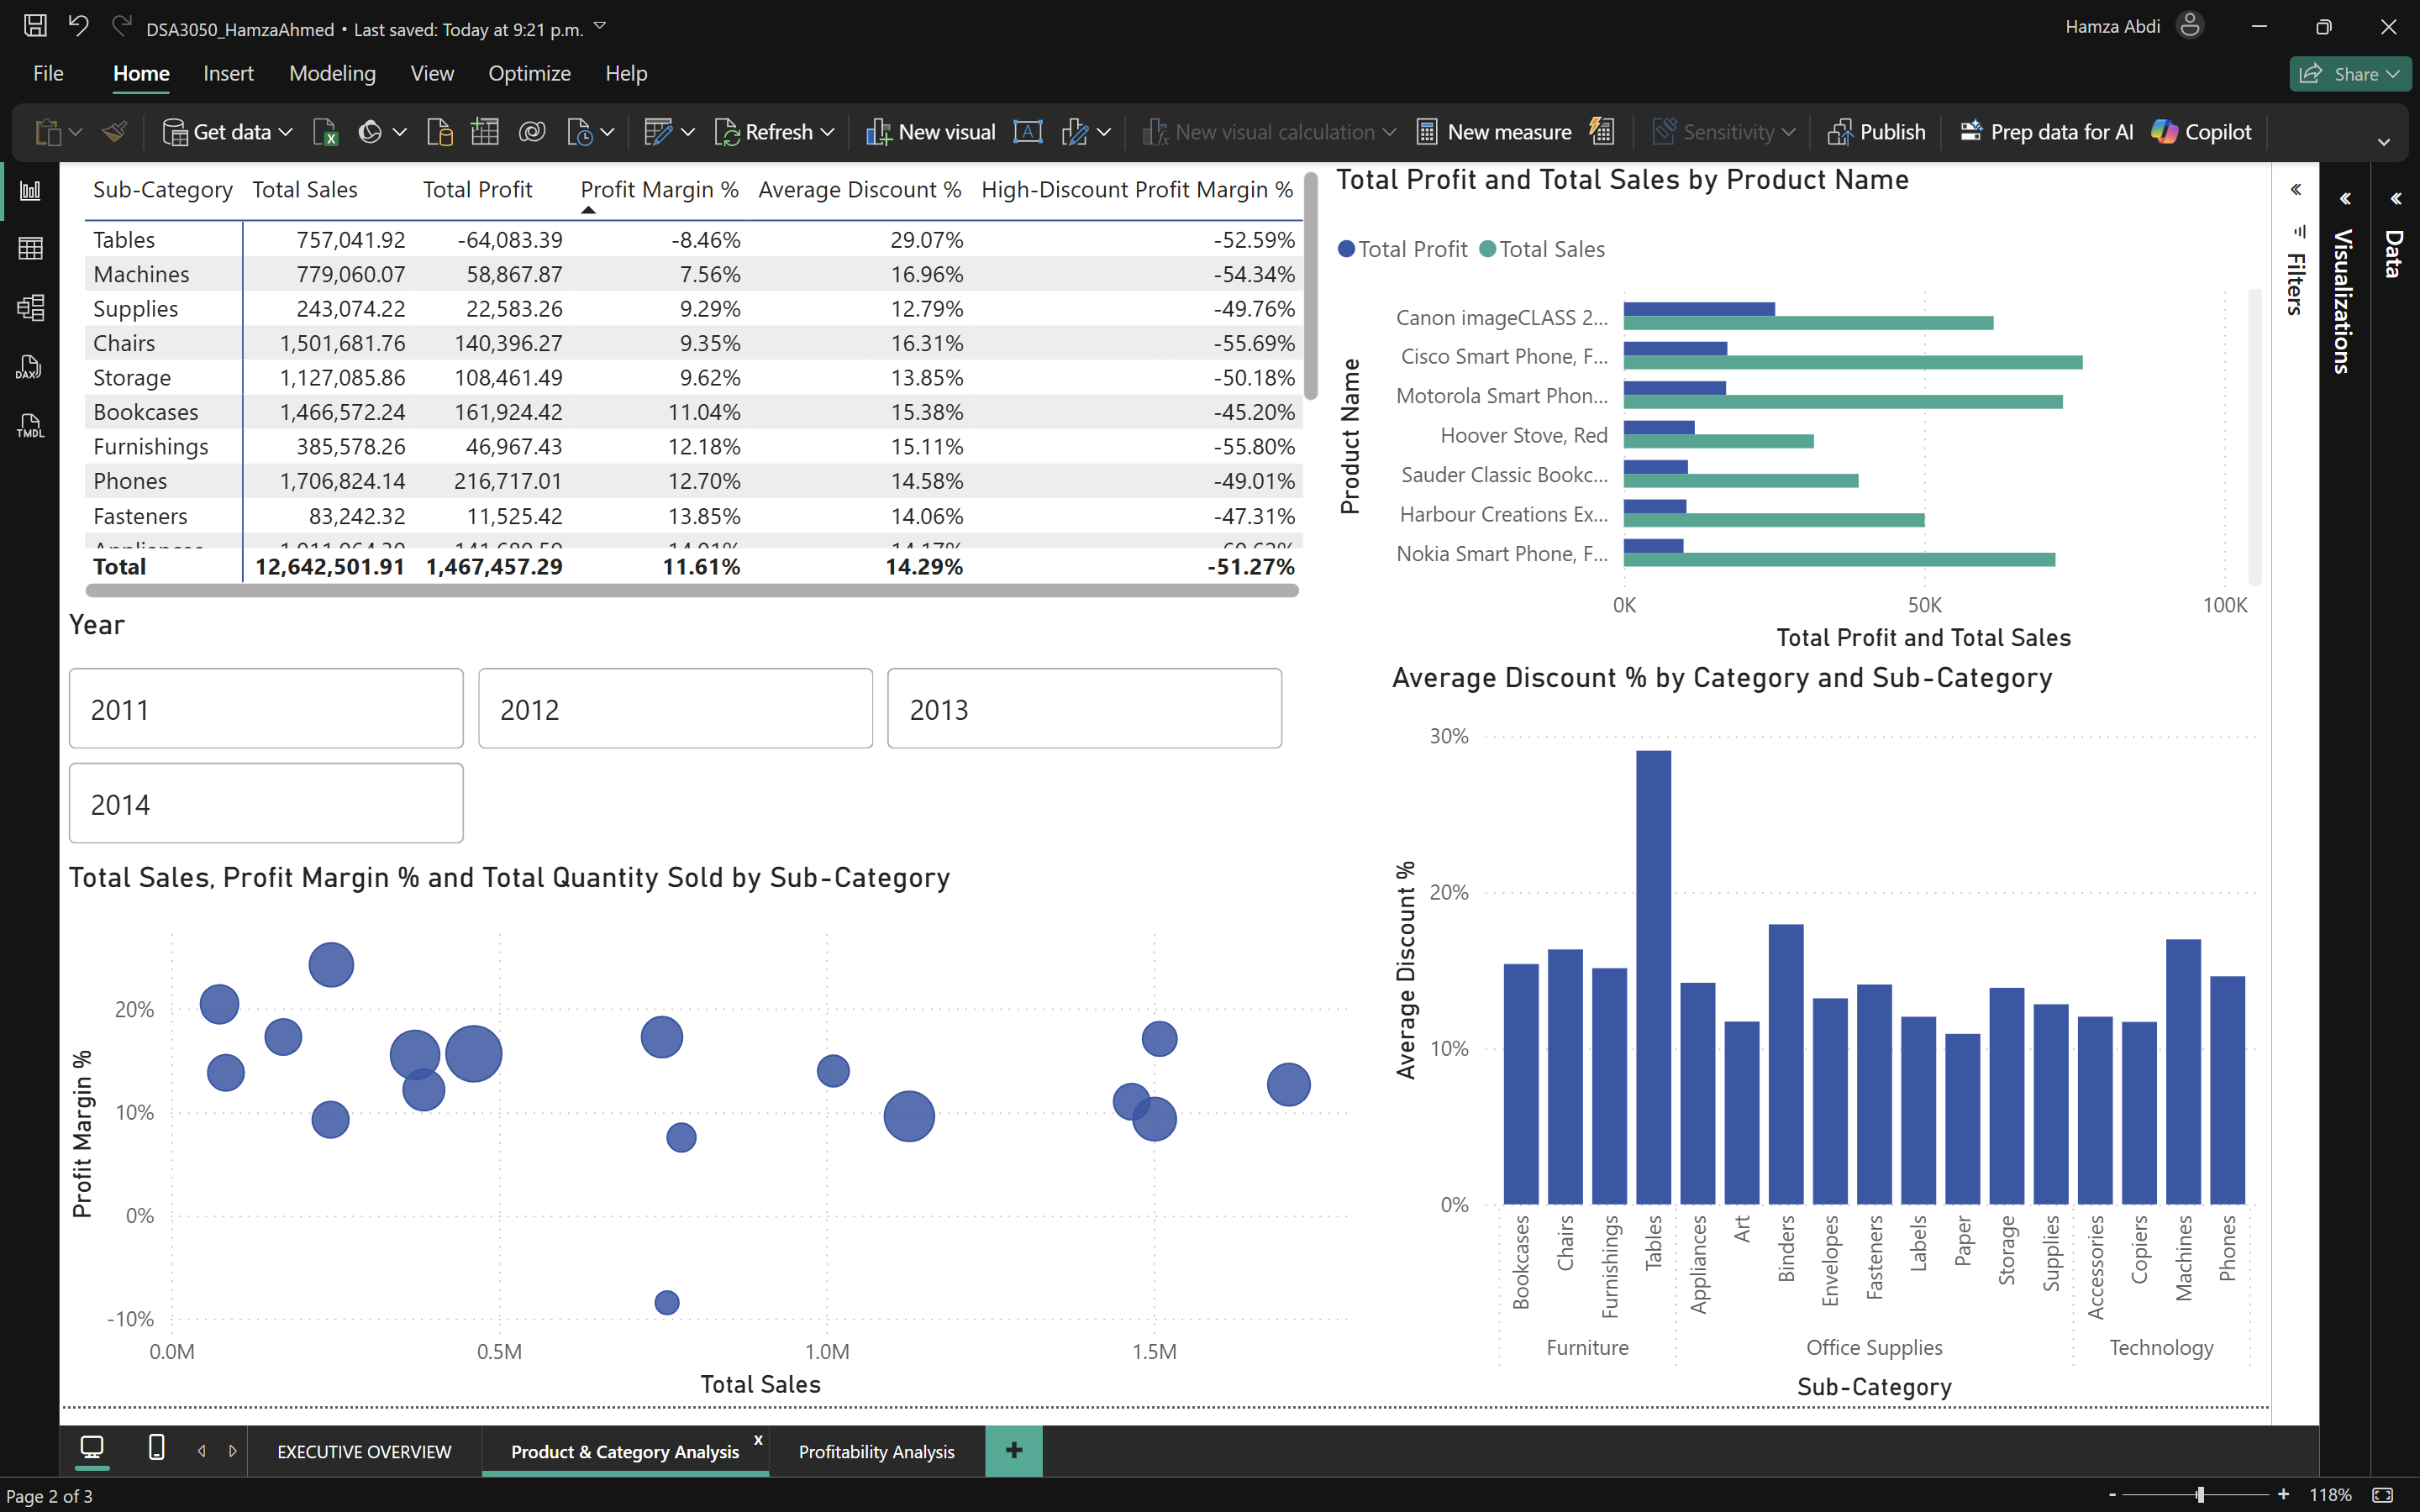

The page's visual inventory and layout, read from the dashboard file:
{"tool":"powerbi","page":{"name":"Product & Category Analysis","canvas":[1280,720],"ordinal":1},"visuals":[{"type":"pivotTable","fields":{"Rows":["DimProduct.Sub-Category"],"Values":["FactOrders.Total Sales","FactOrders.Total Profit","FactOrders.Profit Margin %","FactOrders.Average Discount %","FactOrders.High-Discount Profit Margin %"]},"box":[9.5,0,724.5,257.7],"z":0},{"type":"scatterChart","fields":{"Category":["DimProduct.Sub-Category"],"Size":["FactOrders.Total Quantity Sold"],"X":["FactOrders.Total Sales"],"Y":["FactOrders.Profit Margin %"]},"box":[0,404.5,765.7,315.8],"z":1},{"type":"lineClusteredColumnComboChart","fields":{"Category":["DimProduct.Category","DimProduct.Sub-Category"],"Y":["FactOrders.Average Discount %"]},"box":[765.7,288.3,514.3,433],"z":2},{"type":"clusteredBarChart","fields":{"Category":["DimProduct.Product Name"],"Y":["FactOrders.Total Profit","FactOrders.Total Sales"]},"box":[734,0,546,288.3],"z":3},{"type":"advancedSlicerVisual","fields":{"Values":["DimDate.Year"]},"box":[0,257.7,715,142.6],"z":4}]}

Visuals, with their boxes on the page's 1280x720 design canvas (x1, y1, x2, y2). These are canvas units, not pixel positions in the 2420x1512 screenshot, which may show the page scaled, cropped or inside an application window:
pivotTable - DimProduct.Sub-Category x FactOrders.Total Sales: (10, 0, 734, 258)
scatterChart - DimProduct.Sub-Category x FactOrders.Total Quantity Sold: (0, 404, 766, 720)
lineClusteredColumnComboChart - DimProduct.Category x DimProduct.Sub-Category: (766, 288, 1280, 721)
clusteredBarChart - DimProduct.Product Name x FactOrders.Total Profit: (734, 0, 1280, 288)
advancedSlicerVisual - DimDate.Year: (0, 258, 715, 400)
